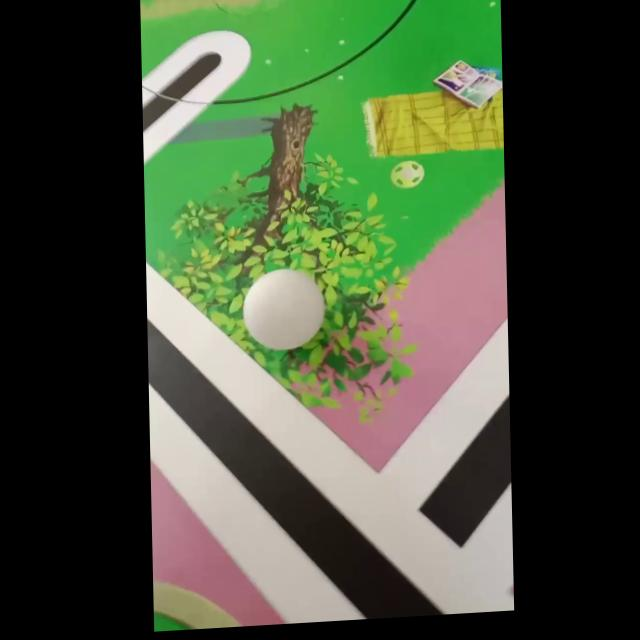white ball: (240, 266, 326, 354)
